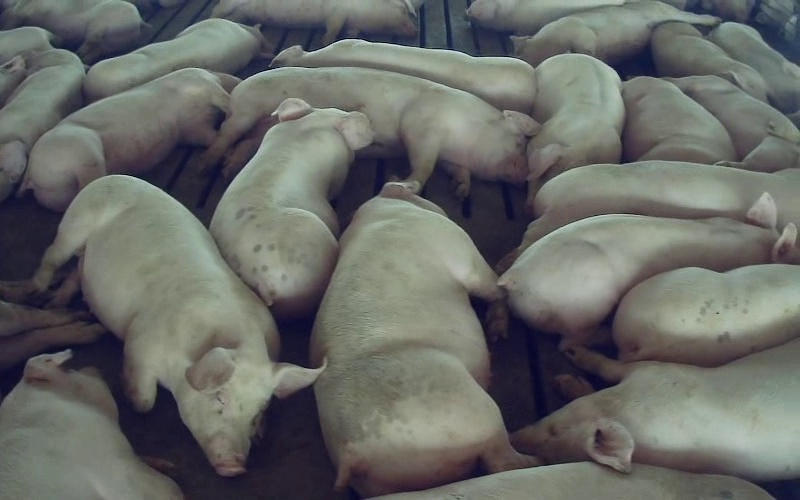pig: (32, 175, 322, 475), (311, 184, 534, 495), (499, 193, 799, 345), (201, 67, 538, 196), (511, 339, 799, 480), (210, 98, 372, 317), (496, 161, 799, 273), (20, 68, 238, 210), (0, 350, 182, 499), (271, 39, 536, 113), (613, 264, 799, 366), (84, 19, 267, 101), (527, 54, 624, 204), (662, 72, 799, 171), (512, 2, 719, 65), (0, 49, 84, 201), (622, 76, 735, 163), (651, 22, 767, 101), (212, 0, 416, 44), (708, 22, 799, 113), (466, 0, 625, 34)
